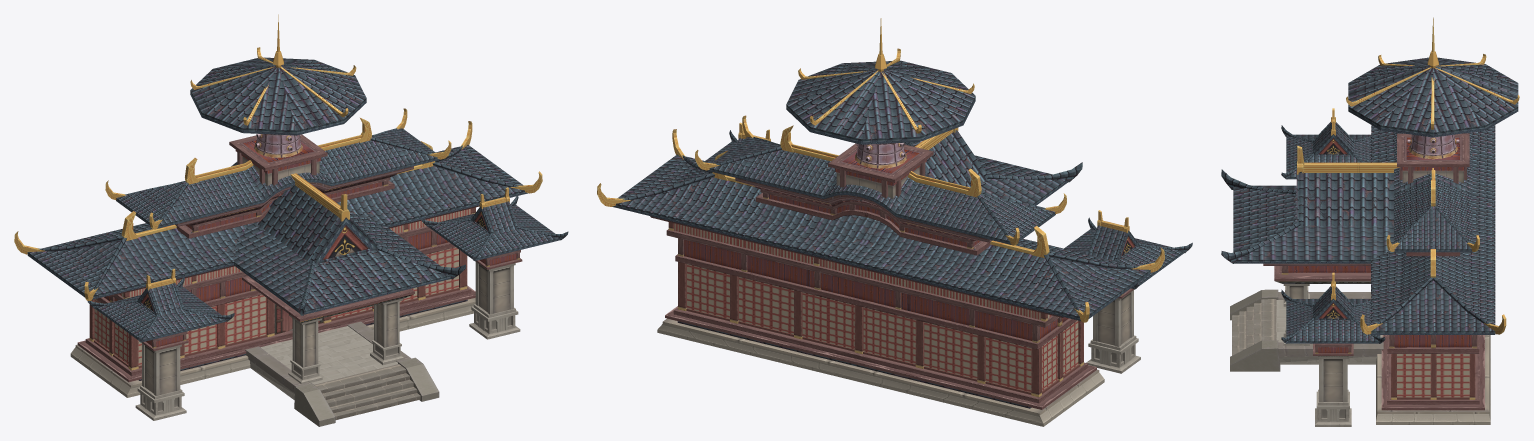
The model's file is mod_zlc_jianzhu024_xy_02.FBX.
3 views of the same model, side by side, from view 1: azimuth 30°, elevation 25°; view 2: azimuth 150°, elevation 25°; view 3: azimuth 270°, elevation 25° (orthographic). The views are drawn at different scales.
Parts seen in each view (by area): view 1: mod_zlc_jianzhu024_xy_02; view 2: mod_zlc_jianzhu024_xy_02; view 3: mod_zlc_jianzhu024_xy_02.
Part boxes in pixels (box(x1,y1,x2,y2)): mod_zlc_jianzhu024_xy_02: box(14, 14, 568, 426); mod_zlc_jianzhu024_xy_02: box(597, 18, 1192, 426); mod_zlc_jianzhu024_xy_02: box(1221, 17, 1519, 426).
Bounding box in the file's own units: 3836 × 2598 × 2144.
6 materials, 6 textured.
